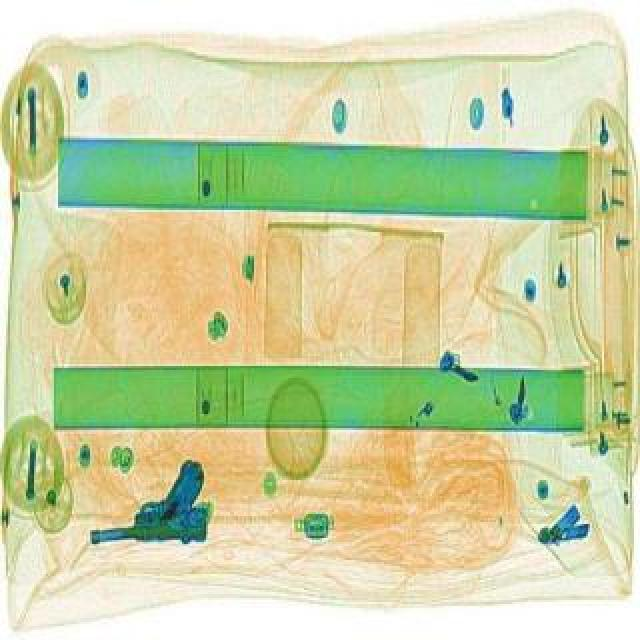gun: (86, 456, 214, 546)
